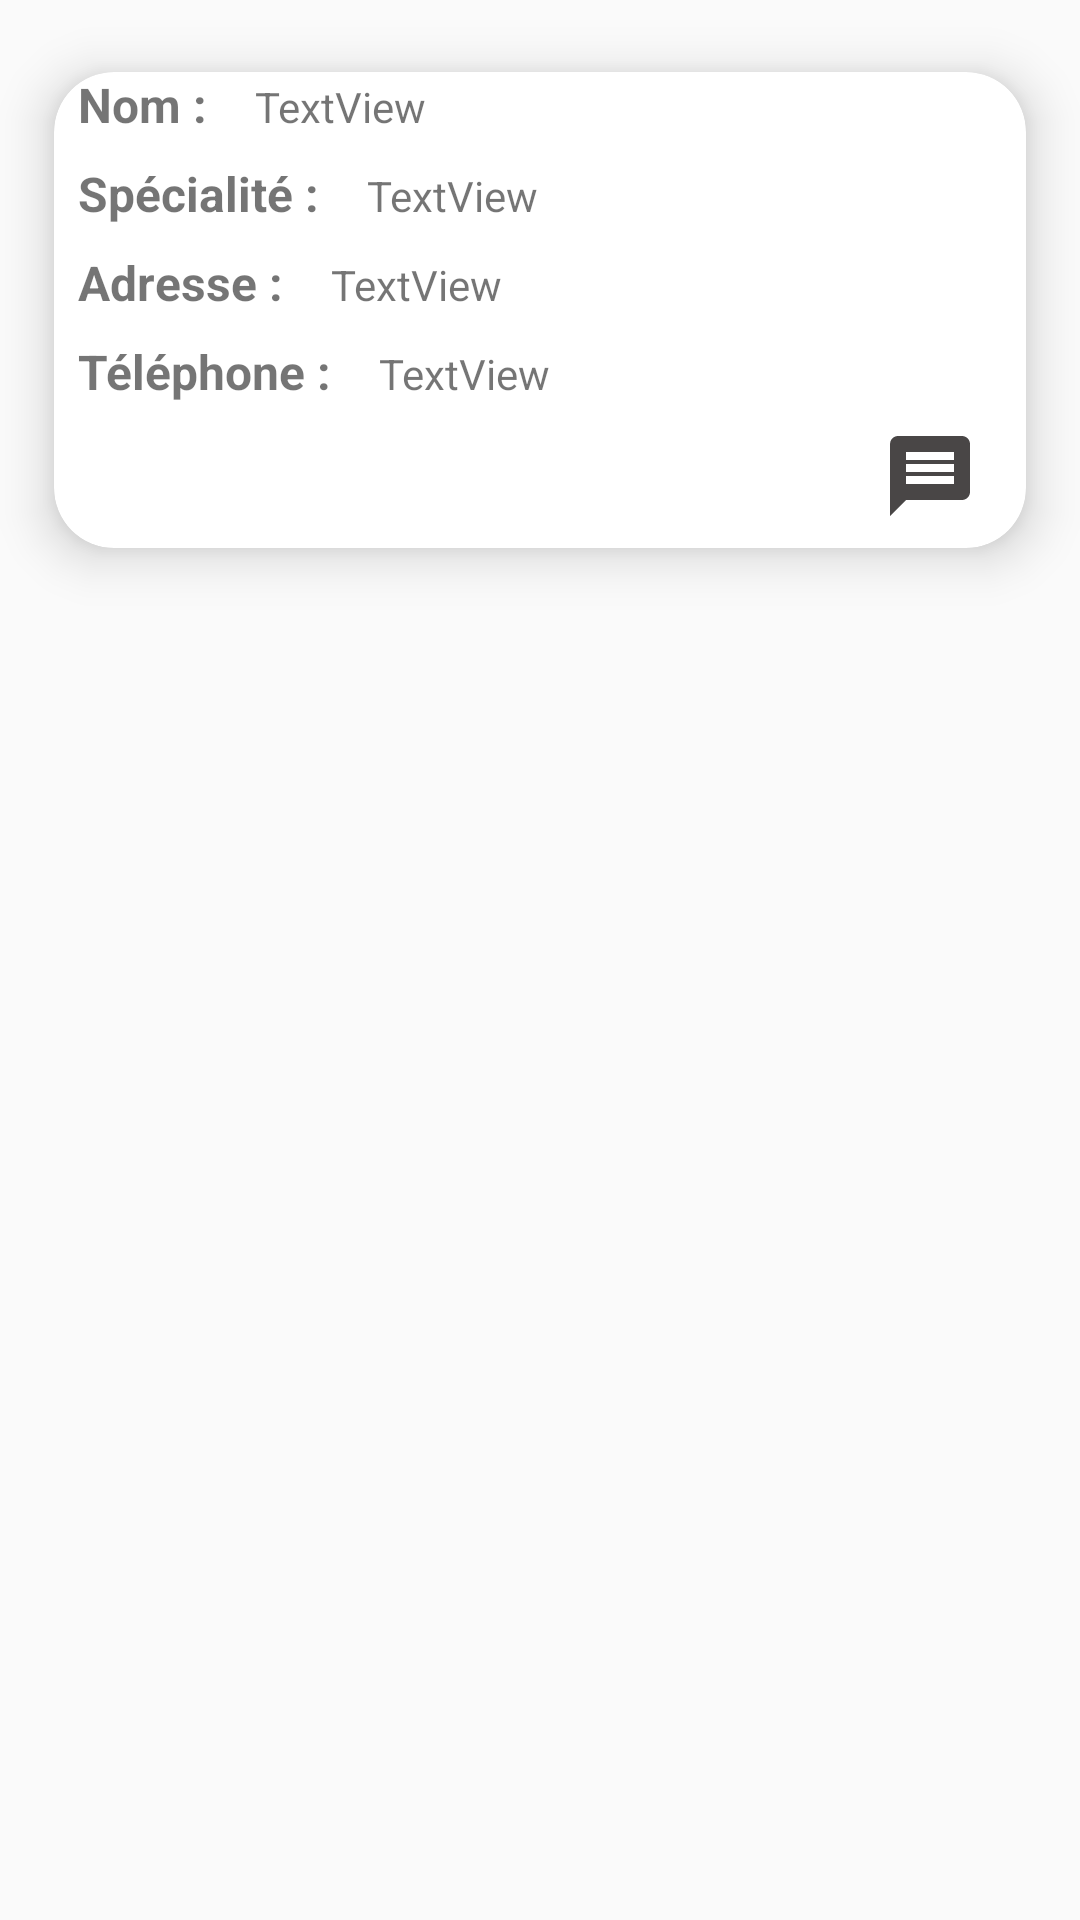

Named icons in this screenshot (1080x1920) and their bounding boxes, (left=x1, top=y1, right=x2, bottom=y2):
message: (left=890, top=436, right=970, bottom=516)
